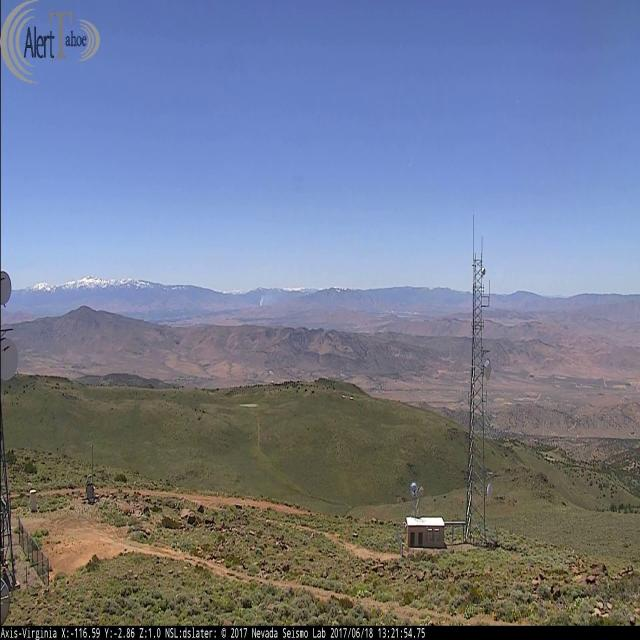smoke: (259, 292, 277, 304)
